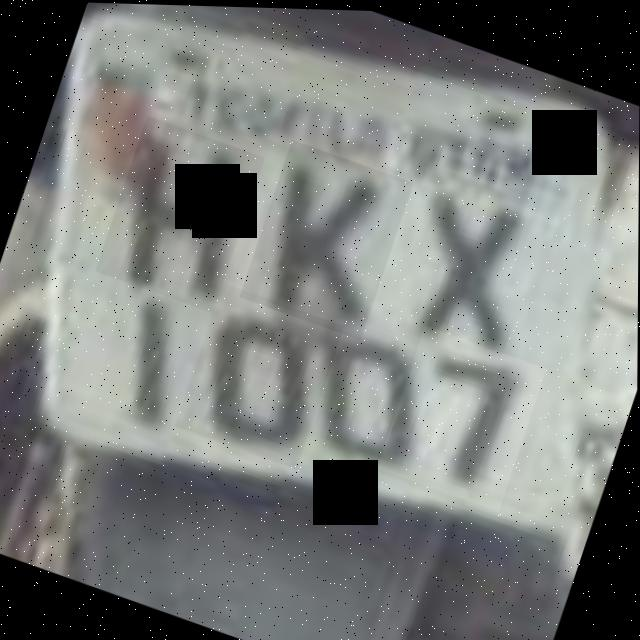0: (175, 281, 345, 469)
1: (88, 282, 213, 438)
7: (378, 322, 548, 510)
H: (95, 114, 265, 313)
K: (240, 137, 414, 339)
X: (375, 158, 563, 370)
